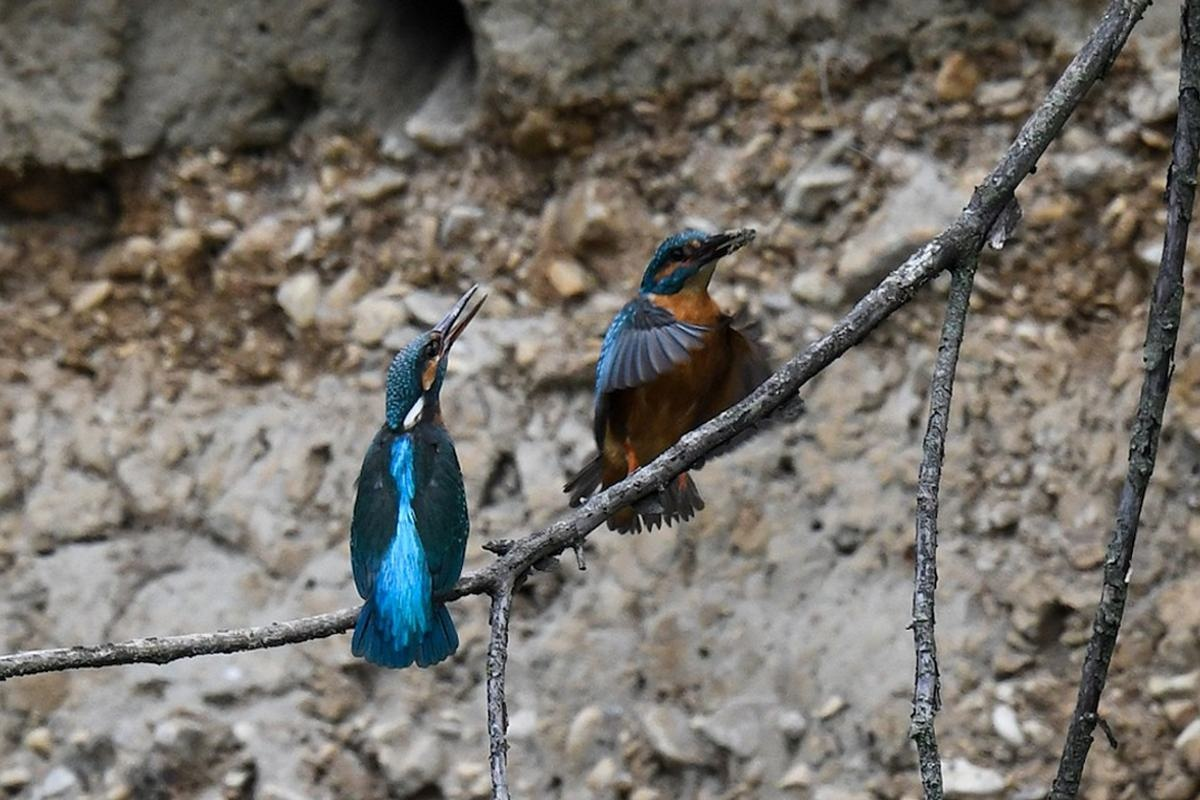kingfisher: (324, 271, 507, 679), (577, 205, 773, 577)
